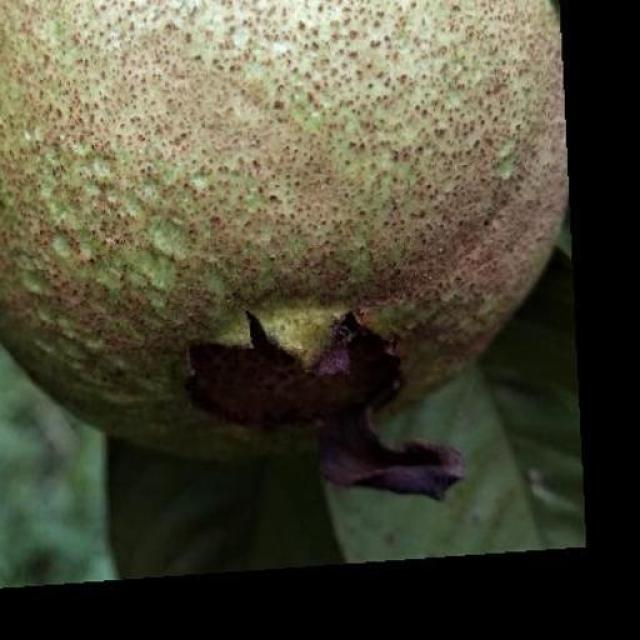Scab: (0, 1, 566, 453)
